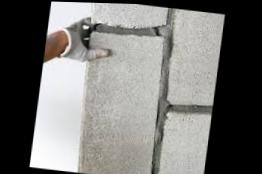brick: (70, 27, 169, 174), (161, 8, 225, 109), (155, 107, 211, 174), (87, 3, 169, 32)
